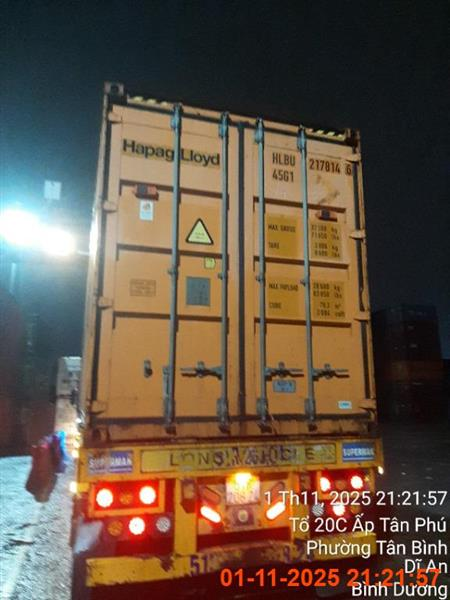hole: (68, 83, 385, 598)
